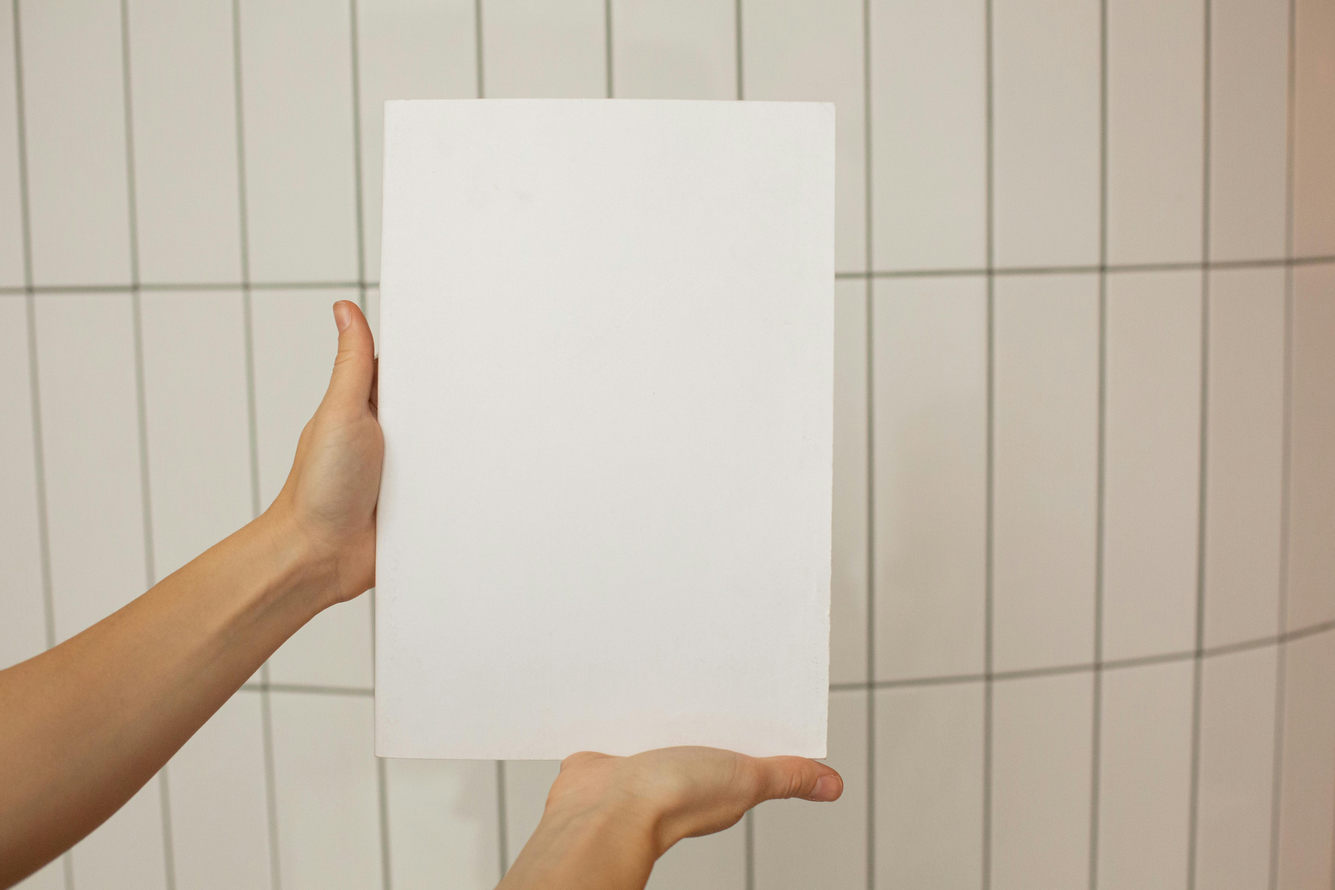paper: (376, 98, 835, 757)
